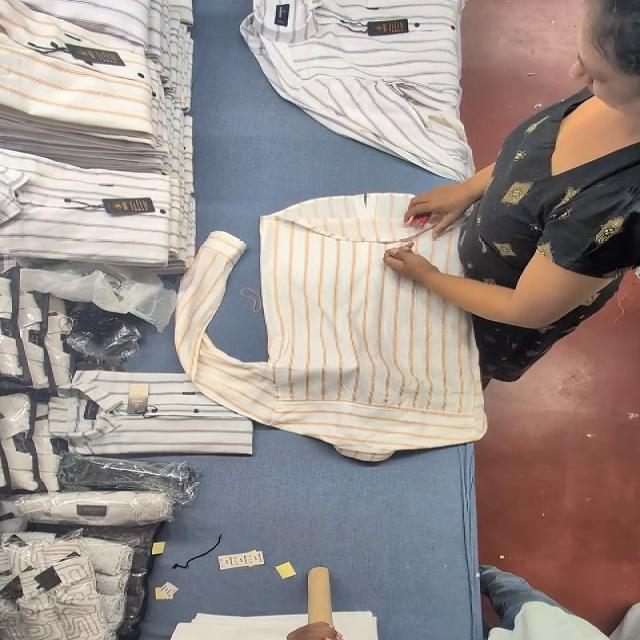new-garment: (176, 193, 485, 461)
